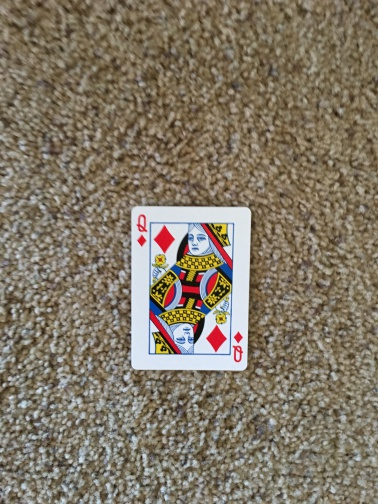queen: (130, 205, 252, 371)
